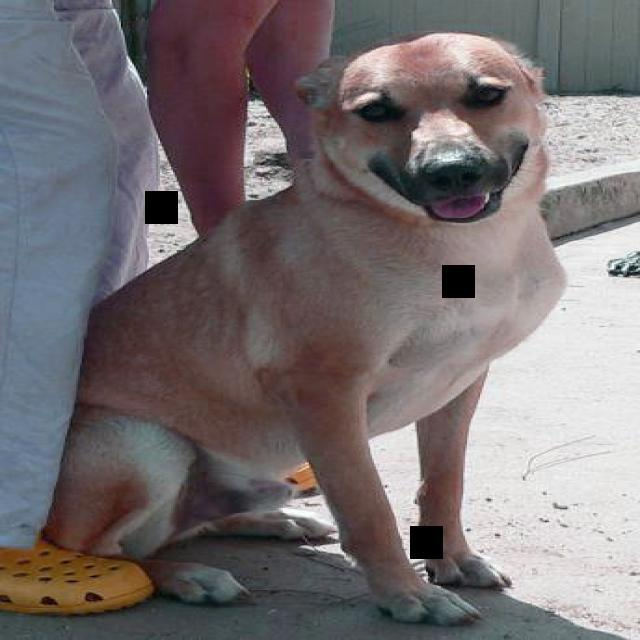adult_dog: (35, 28, 574, 627)
